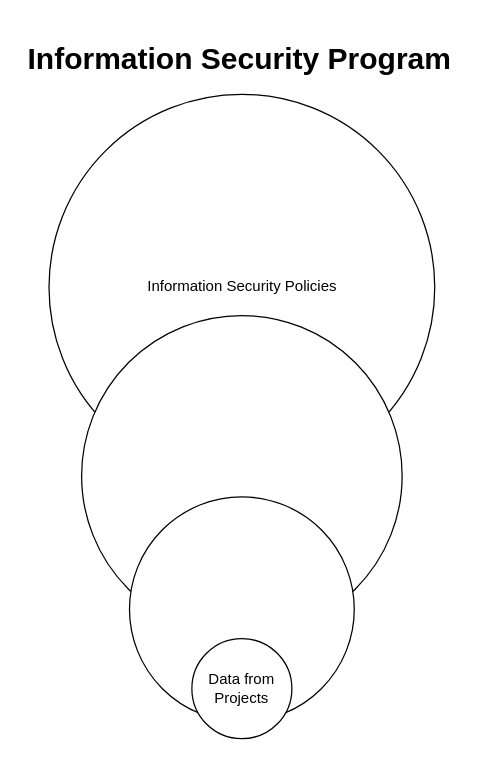
The diagram is 483 pixels wide and 760 high, and some of its shapes have lost their labels. The shapes that lost their labels are listed below. From the top down, each one's box as (x1, y1, x2, y2) in pixels, then its label:
(80, 314, 402, 636): Information Security Goverance
(128, 496, 354, 722): Data Classification
